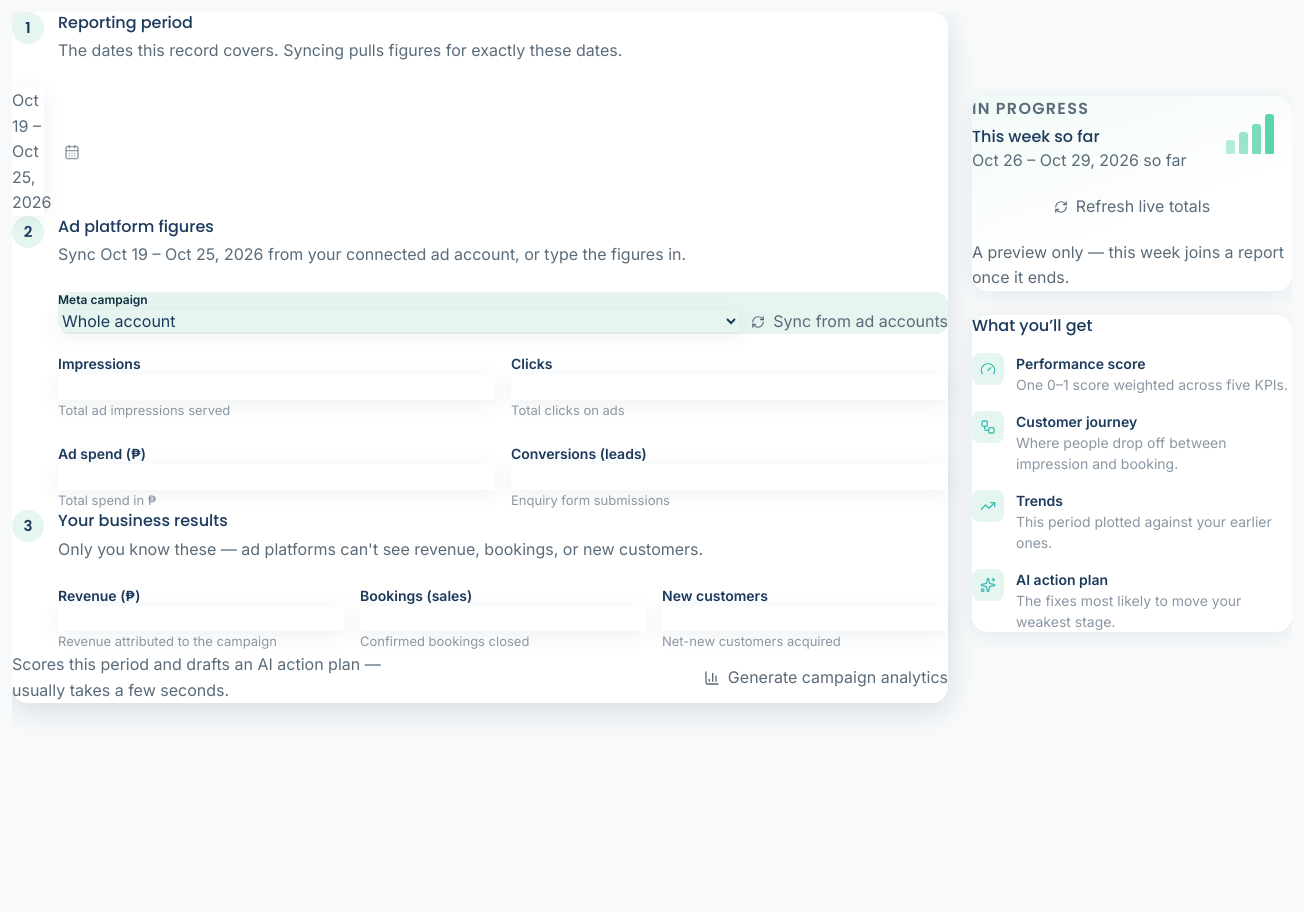
Test: IngestionForm ad sync › names the campaign in the sync note when the source is campaign-scoped
Click the button "Sync from ad accounts".
click(850, 322)  # box x1=751 y1=309 x2=948 y2=334
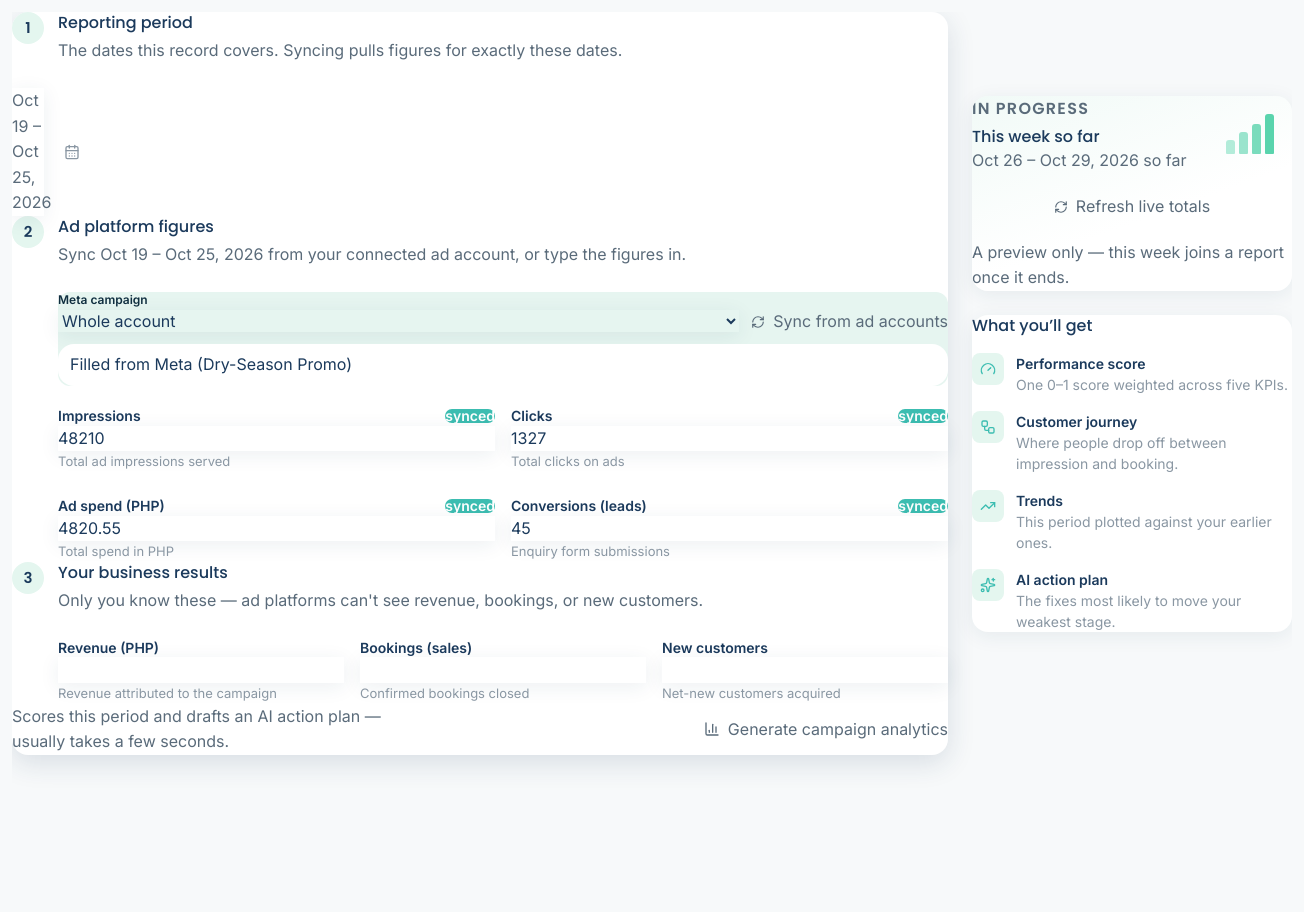
Expected: the text "Filled from Meta (Dry-Season Promo)" is shown, x1=58 y1=344 x2=948 y2=386
